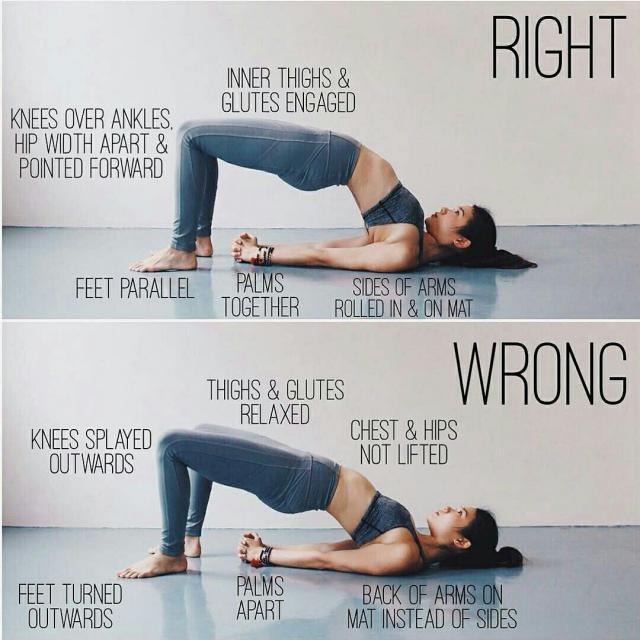yoga-pose bridge: (156, 112, 528, 281), (134, 420, 532, 576)
